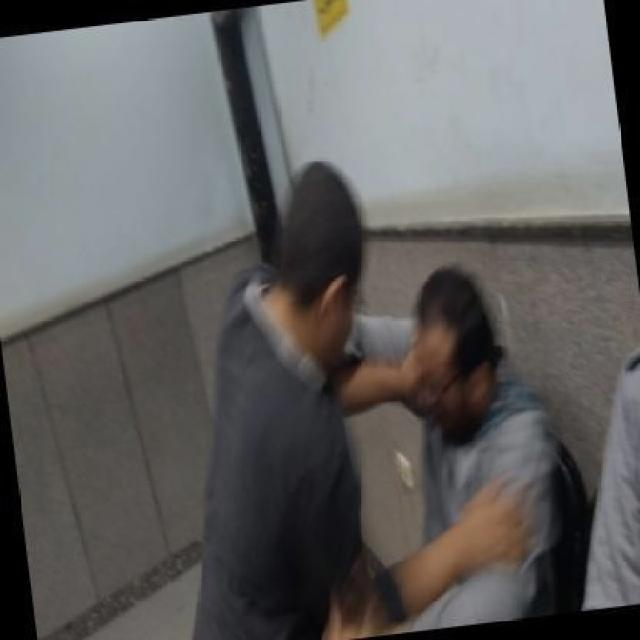fight: (185, 153, 558, 631)
